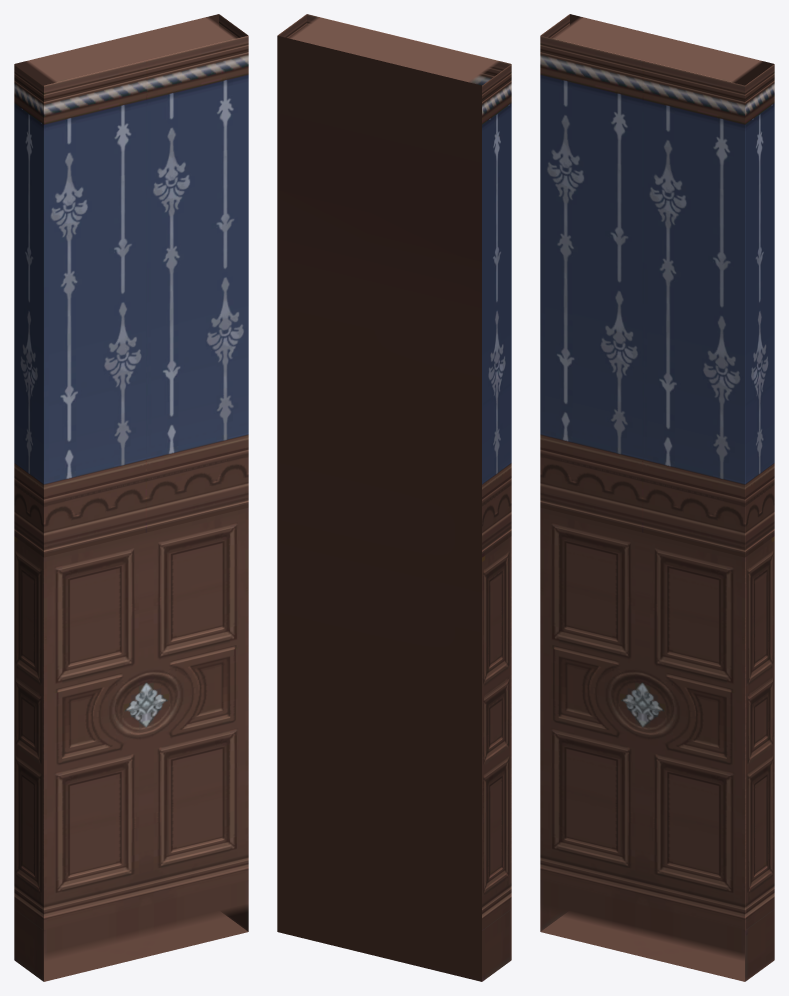
The model's file is my_wildhunt_01_wall_left.glb.
3 views of the same model, side by side, from view 1: azimuth 30°, elevation 25°; view 2: azimuth 150°, elevation 25°; view 3: azimuth 330°, elevation 25° (orthographic).
Visible parts, largest first — view 1: my_wildhunt_01_wall_left; view 2: my_wildhunt_01_wall_left; view 3: my_wildhunt_01_wall_left.
Boxes of the visible parts, x1,y1,x2,y2 form: my_wildhunt_01_wall_left: [14, 14, 248, 981]; my_wildhunt_01_wall_left: [277, 14, 511, 981]; my_wildhunt_01_wall_left: [540, 14, 774, 981].
Bounding box in the file's own units: 0.012 × 0.0502 × 0.003.
Materials: 1 (1 with a texture image).
